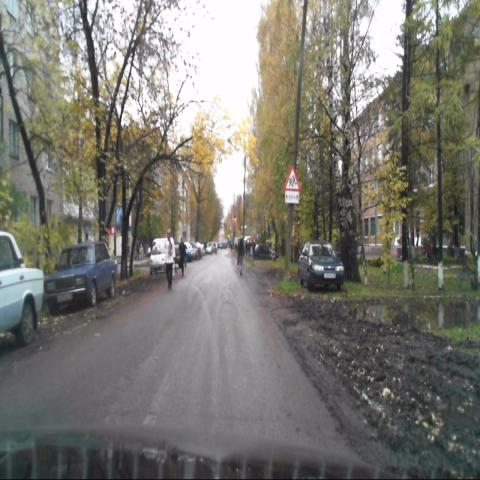1_23: (285, 165, 299, 190)
8_2_1: (285, 191, 299, 203)
